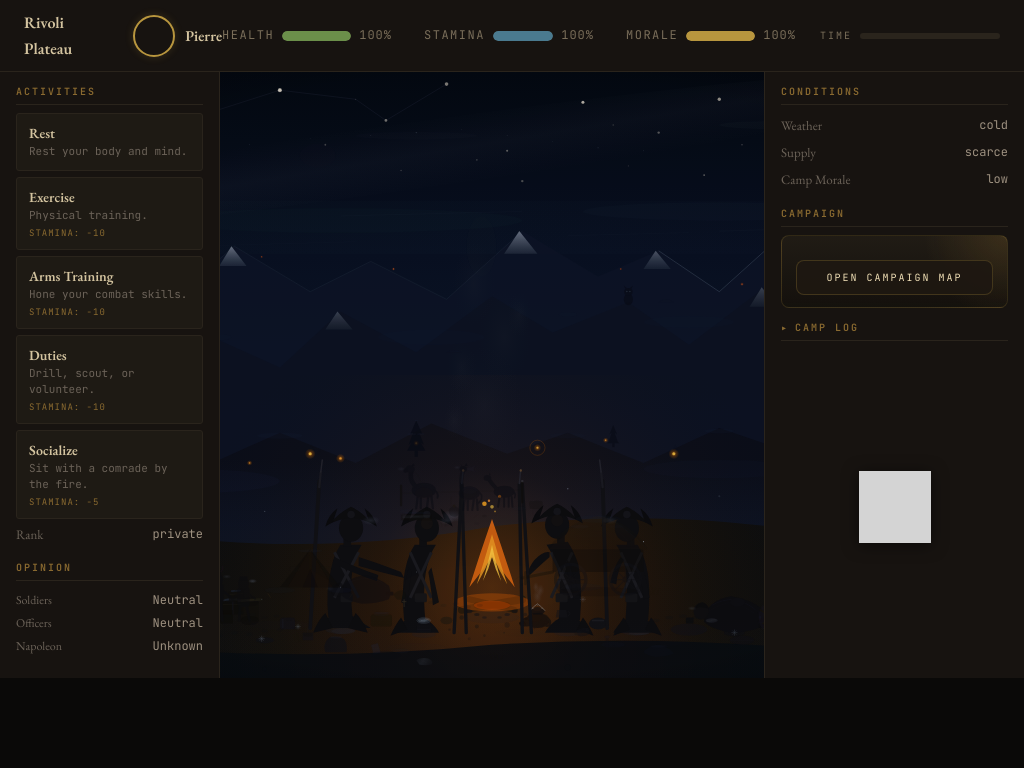
Test: CampPage › opens Character panel when portrait is clicked
Expected: the text "Valor" is not shown
// Click the portrait area
Click the text "Pierre" at (178,36), box left=133, top=15, right=222, bottom=57
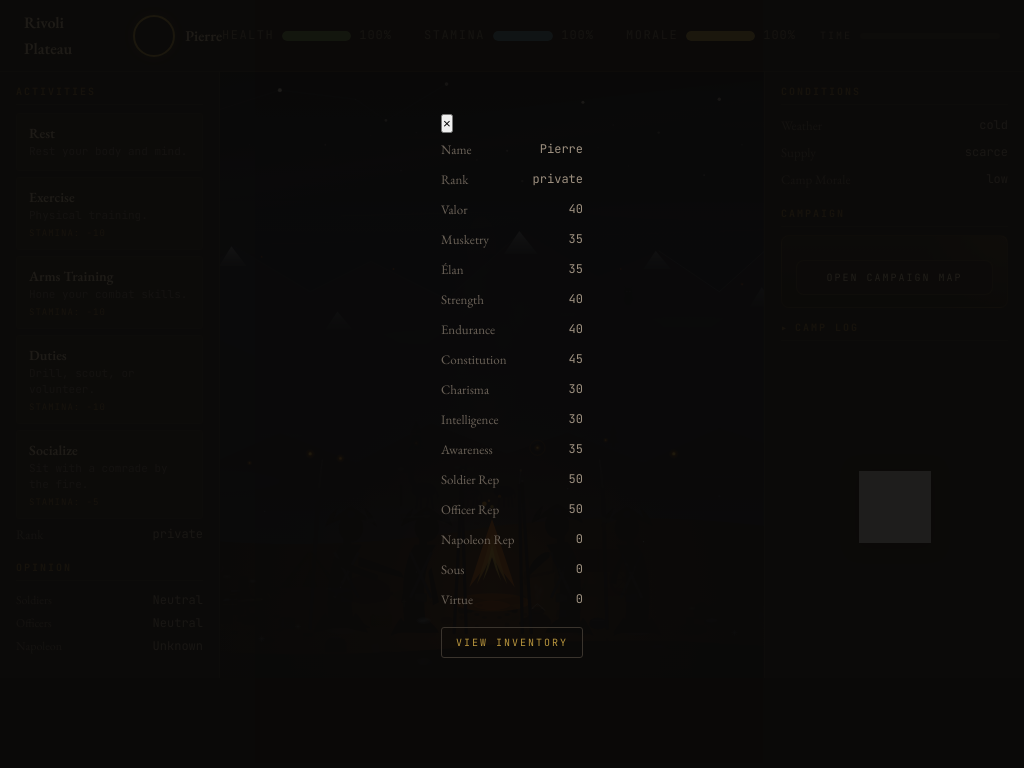
Expected: the text "Valor" is shown, left=441, top=197, right=468, bottom=223
Expected: the button "View Inventory" is shown, left=441, top=627, right=583, bottom=658
